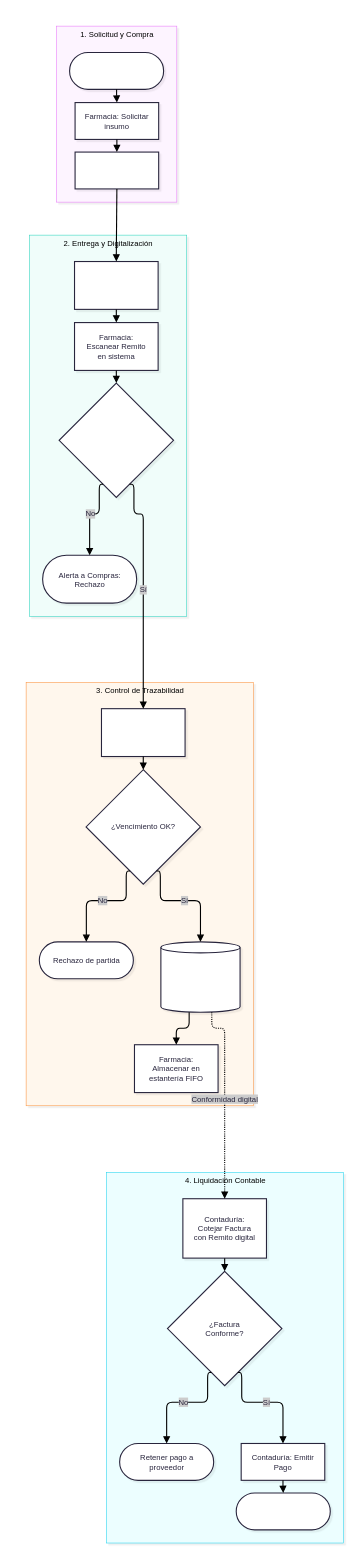
This 355x1555 diagram has some shape labels left out. Here are the shapes that lost their labels. From the top down, the centre of each, then its label:
(117,72): Inicio: Quiebre stock
(117,171): Compras: Cotizar y emitir OC
(117,286): Proveedor: Entrega física + Remito
(117,441): ¿Coincide con OC?
(144,733): Farmacia: Cargar Lote y Vencimiento
(201,978): Software: Guardar Remito + Lote + Stock
(284,1512): Fin: Proceso completado
